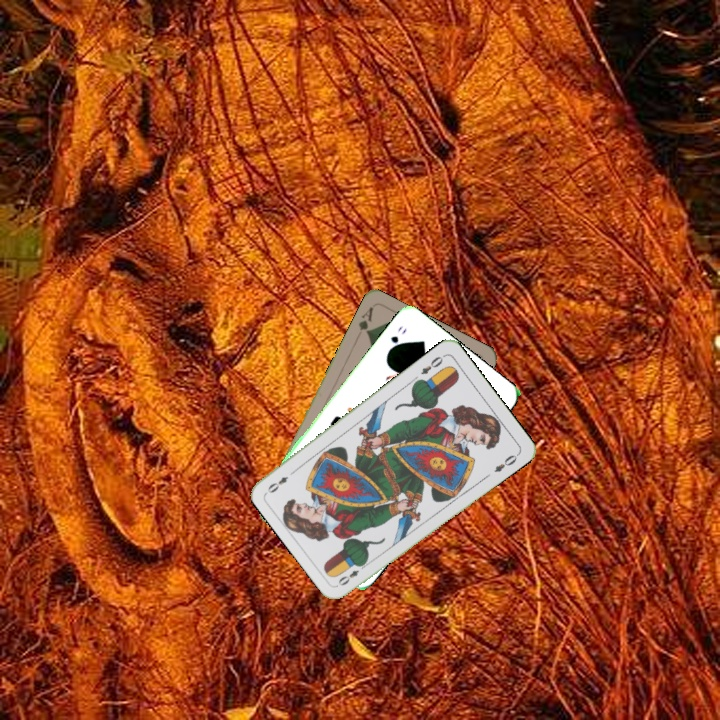EO: (334, 559, 369, 589), (416, 352, 446, 377)
GA: (354, 303, 376, 337)
GO: (384, 322, 409, 356)
